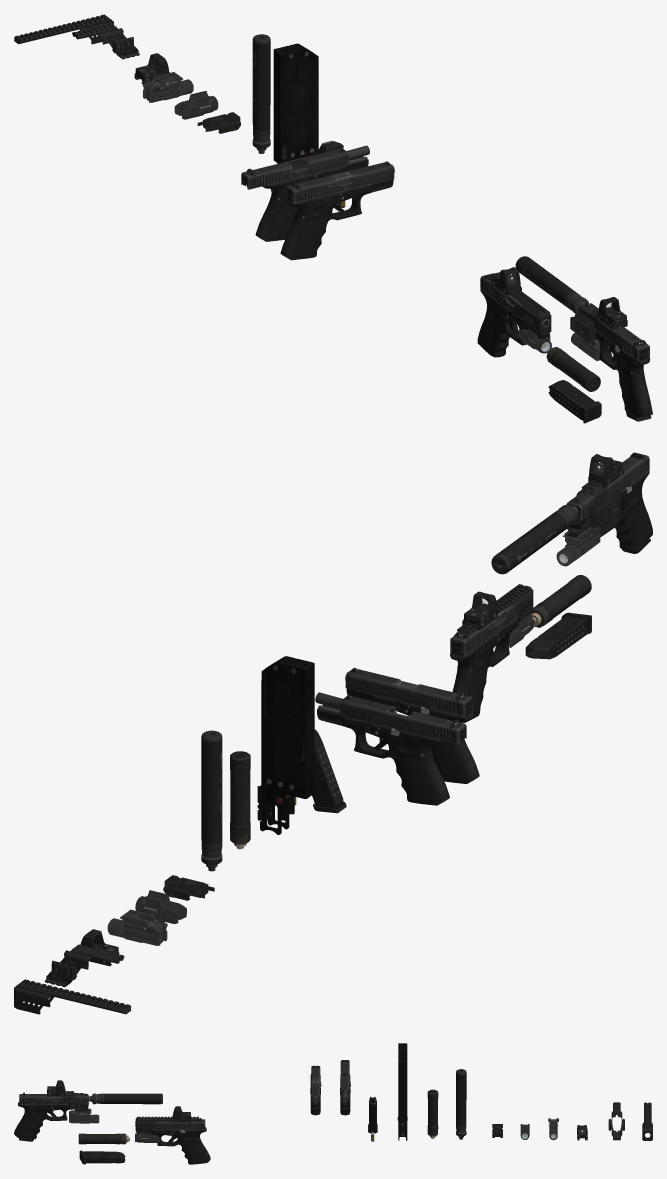
Rendered from pistola.glb.
3 renders of one model, top to bottom at view 1: azimuth 30°, elevation 25°; view 2: azimuth 150°, elevation 25°; view 3: azimuth 270°, elevation 25°, orthographic. The views are drawn at different scales.
Parts seen in each view (by area): view 1: Supressor3, CustomPistol9mm.045, CustomPistol9mm.022, CustomPistol9mmReload.022, Supressor1.003, CustomPistol9mmReload, CustomPistol9mm.023, CustomPistol9mm.068, Supressor1.001, PicatinyBracing2, CustomPistol9mm, PicatinyBracing2.002 (+3 smaller); view 2: Supressor3, CustomPistol9mmReload.022, Supressor1.003, CustomPistol9mmReload, CustomPistol9mm.023, CustomPistol9mm.045, CustomPistol9mm.068, CustomPistol9mm.022, Supressor1.001, PicatinyBracing2, Supressor2, Magazine9mm.008 (+7 smaller); view 3: CustomPistol9mm.022, CustomPistol9mm.068, Supressor1.001, Supressor3, Supressor1.003, CustomPistol9mm, Magazine9mm.008, Supressor2.002, CustomPistol9mm.046, Supressor2, PicatinyBracing2.002, PicatinyBracing2 (+6 smaller).
Part boxes in pixels (x1,y1,x2,y2): Supressor3: [273, 43, 318, 161]; CustomPistol9mm.045: [280, 179, 393, 260]; CustomPistol9mm.022: [595, 330, 652, 417]; CustomPistol9mmReload.022: [255, 156, 368, 241]; Supressor1.003: [252, 34, 270, 143]; CustomPistol9mmReload: [241, 149, 349, 189]; CustomPistol9mm.023: [286, 162, 394, 203]; CustomPistol9mm.068: [477, 289, 549, 357]; Supressor1.001: [515, 256, 581, 310]; PicatinyBracing2: [14, 14, 113, 44]; CustomPistol9mm: [579, 303, 649, 360]; PicatinyBracing2.002: [486, 274, 551, 334]; Supressor3: [261, 656, 314, 794]; CustomPistol9mmReload.022: [317, 705, 449, 805]; Supressor1.003: [201, 730, 222, 858]; CustomPistol9mmReload: [340, 696, 466, 744]; CustomPistol9mm.023: [345, 669, 472, 716]; CustomPistol9mm.045: [346, 688, 479, 783]; CustomPistol9mm.068: [450, 613, 531, 723]; CustomPistol9mm.022: [570, 471, 652, 551]; Supressor1.001: [491, 508, 574, 574]; PicatinyBracing2: [14, 979, 131, 1014]; Supressor2: [230, 751, 250, 849]; Magazine9mm.008: [526, 616, 591, 658]; CustomPistol9mm.022: [14, 1102, 88, 1139]; CustomPistol9mm.068: [136, 1127, 210, 1164]; Supressor1.001: [96, 1093, 162, 1104]; Supressor3: [398, 1043, 407, 1113]; Supressor1.003: [456, 1069, 466, 1133]; CustomPistol9mm: [19, 1094, 88, 1105]; Magazine9mm.008: [83, 1151, 124, 1163]; Supressor2.002: [78, 1133, 129, 1144]; CustomPistol9mm.046: [141, 1119, 205, 1129]; Supressor2: [427, 1089, 438, 1138]; PicatinyBracing2.002: [135, 1116, 199, 1132]; PicatinyBracing2: [642, 1102, 652, 1140].
Size of the model in its own units: 0.2288 by 0.2933 by 1.58.
13 materials, 13 textured.
